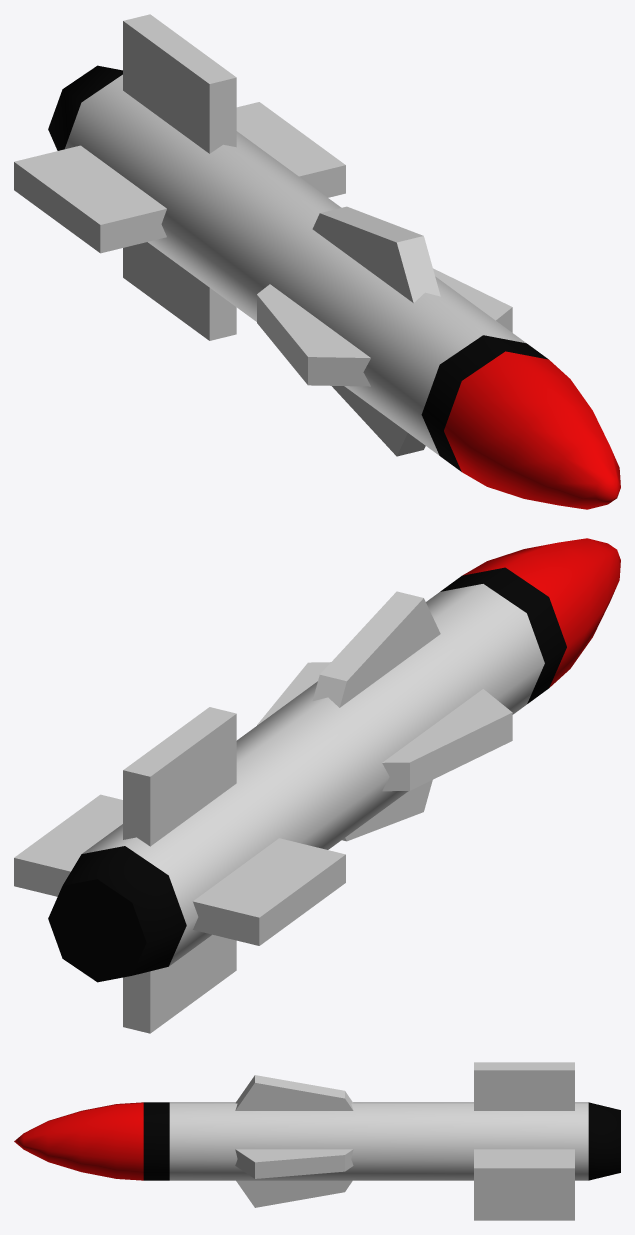
Rendered from ra2_v3_rocket.fbx.
3 renders of one model, top to bottom at view 1: azimuth 30°, elevation 25°; view 2: azimuth 150°, elevation 25°; view 3: azimuth 270°, elevation 25°, orthographic. The views are drawn at different scales.
Parts seen in each view (by area): view 1: Circle; view 2: Circle; view 3: Circle.
Boxes of the visible parts, left/top/right/bottom form: Circle: left=14, top=14, right=620, bottom=509; Circle: left=14, top=538, right=620, bottom=1033; Circle: left=14, top=1062, right=620, bottom=1220.
Bounding box in the file's own units: 27.05 × 27.05 × 99.04.
